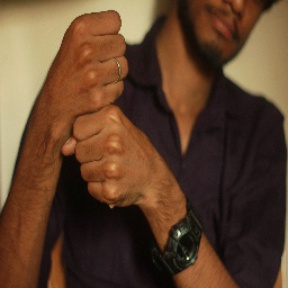G: (47, 8, 157, 215)
